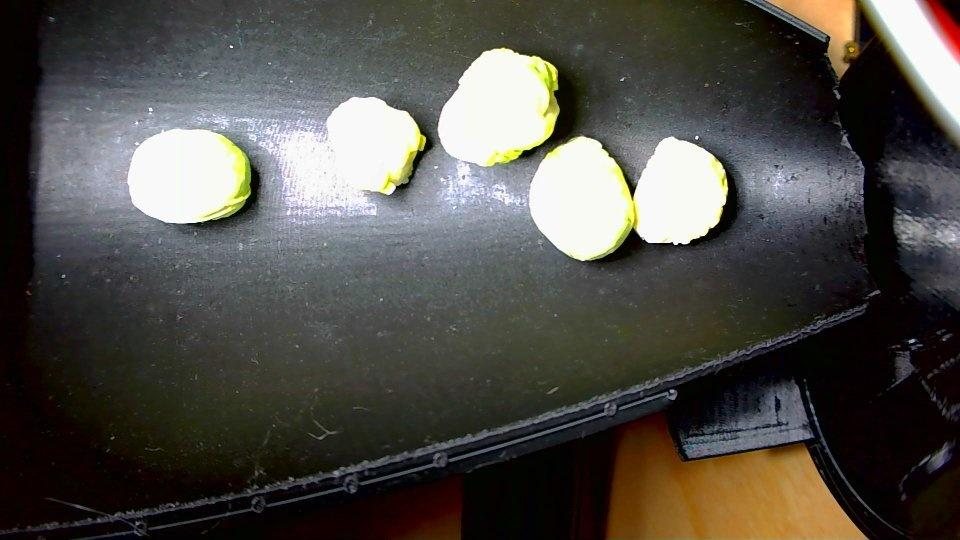berry: (439, 49, 559, 166), (528, 137, 635, 260), (128, 129, 250, 223), (634, 137, 727, 244), (328, 97, 425, 194)
